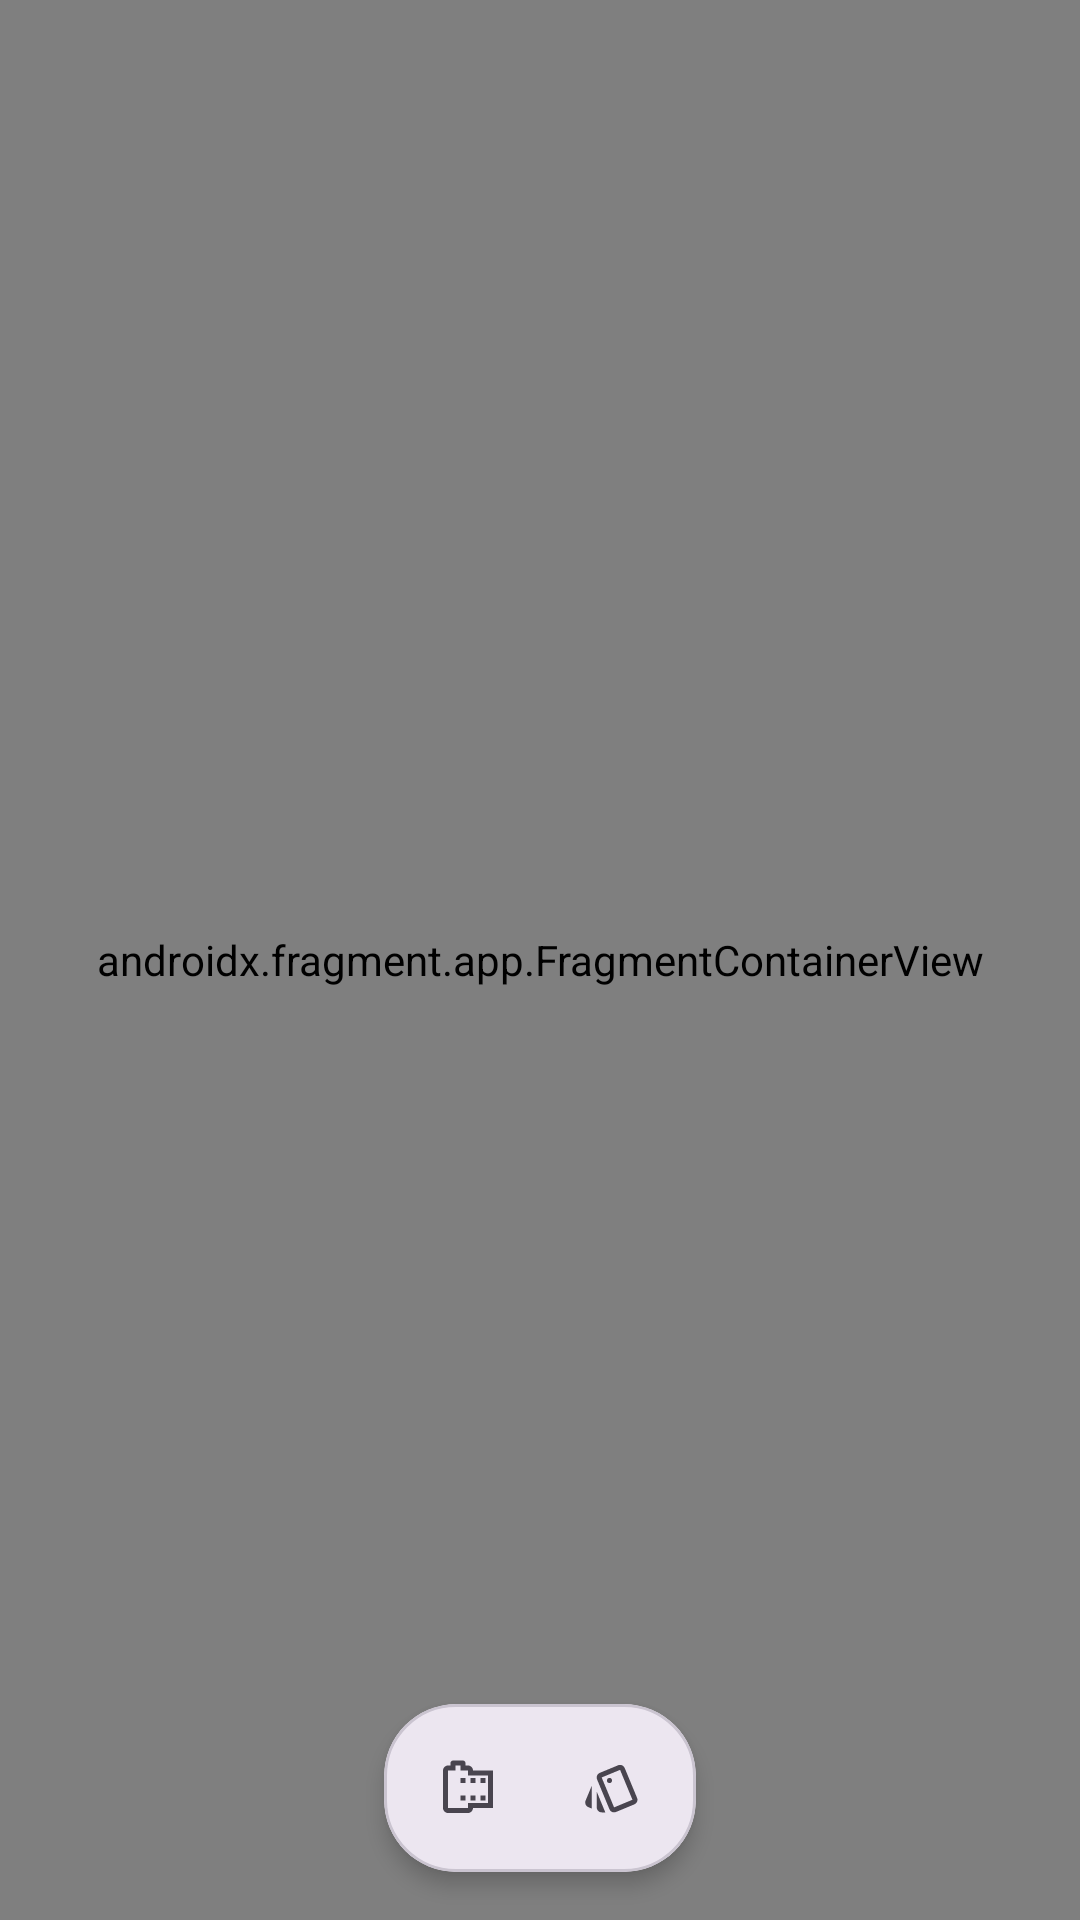

Screen size 1080x1920. Icon name, then its box in pixels as {"left": x1, "top": y1, "right": x2, "bottom": y2}:
Camera: {"left": 443, "top": 1760, "right": 493, "bottom": 1813}
